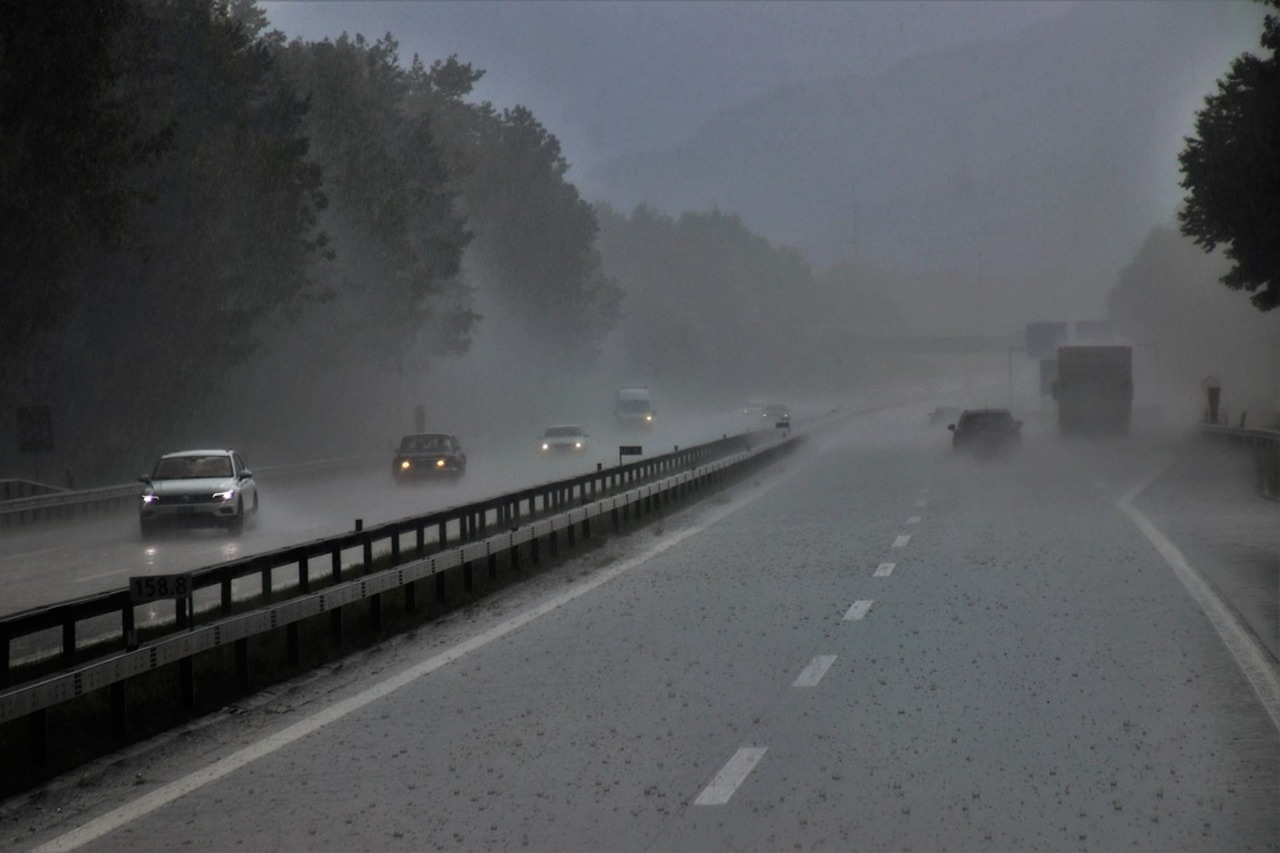car: (141, 447, 258, 530), (1049, 342, 1136, 448), (391, 432, 468, 484), (948, 407, 1022, 454), (538, 426, 589, 459), (617, 391, 656, 434), (925, 404, 956, 435), (760, 402, 792, 422), (741, 400, 759, 421)
